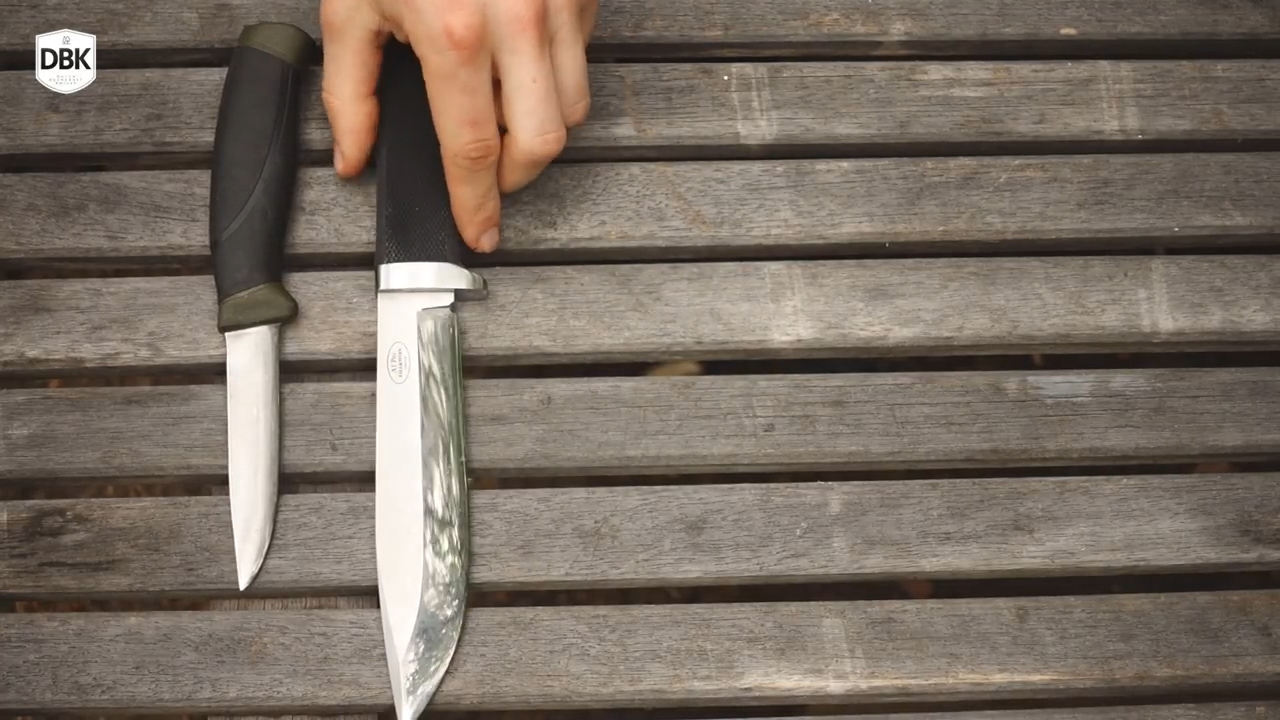knife: (325, 128, 580, 720), (183, 265, 314, 616)
